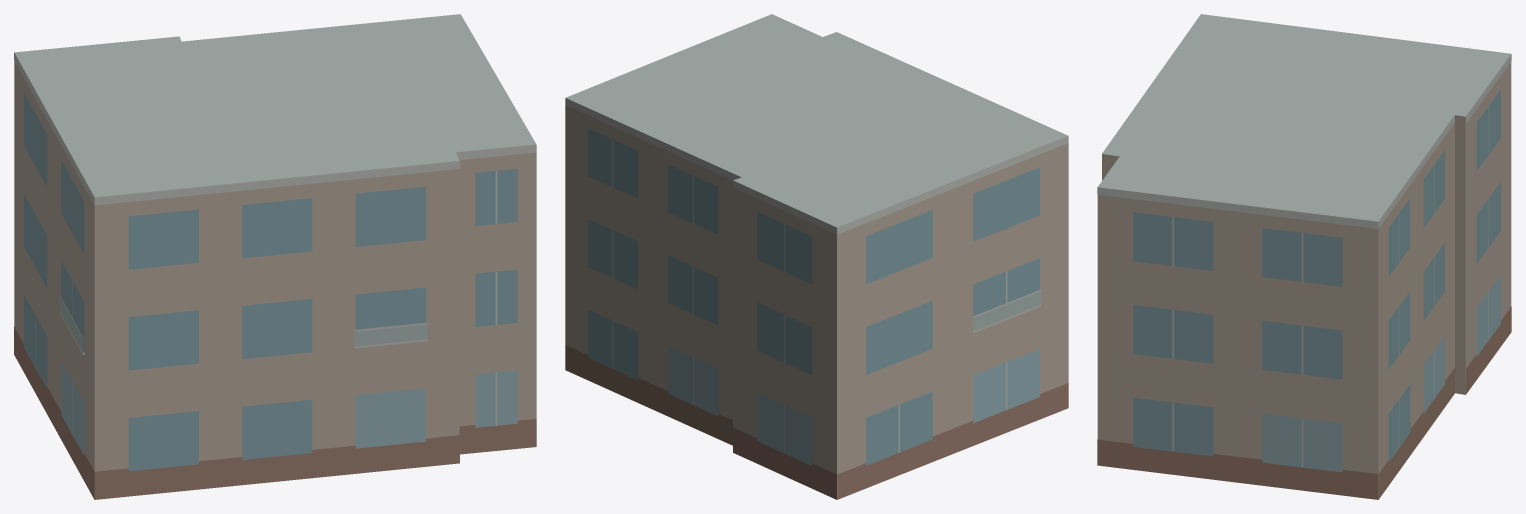
File: survey-upis-32508814.glb
3 views of the same model, side by side, from view 1: azimuth 30°, elevation 25°; view 2: azimuth 150°, elevation 25°; view 3: azimuth 270°, elevation 25° (orthographic). The views are drawn at different scales.
Visible parts, largest first — view 1: survey-upis-32508814.tmp; view 2: survey-upis-32508814.tmp; view 3: survey-upis-32508814.tmp.
Part boxes in pixels (x1,y1,x2,y2): survey-upis-32508814.tmp: [14, 14, 536, 499]; survey-upis-32508814.tmp: [565, 14, 1068, 499]; survey-upis-32508814.tmp: [1097, 14, 1511, 499].
Bounding box in the file's own units: 14.66 × 9.15 × 12.35.
